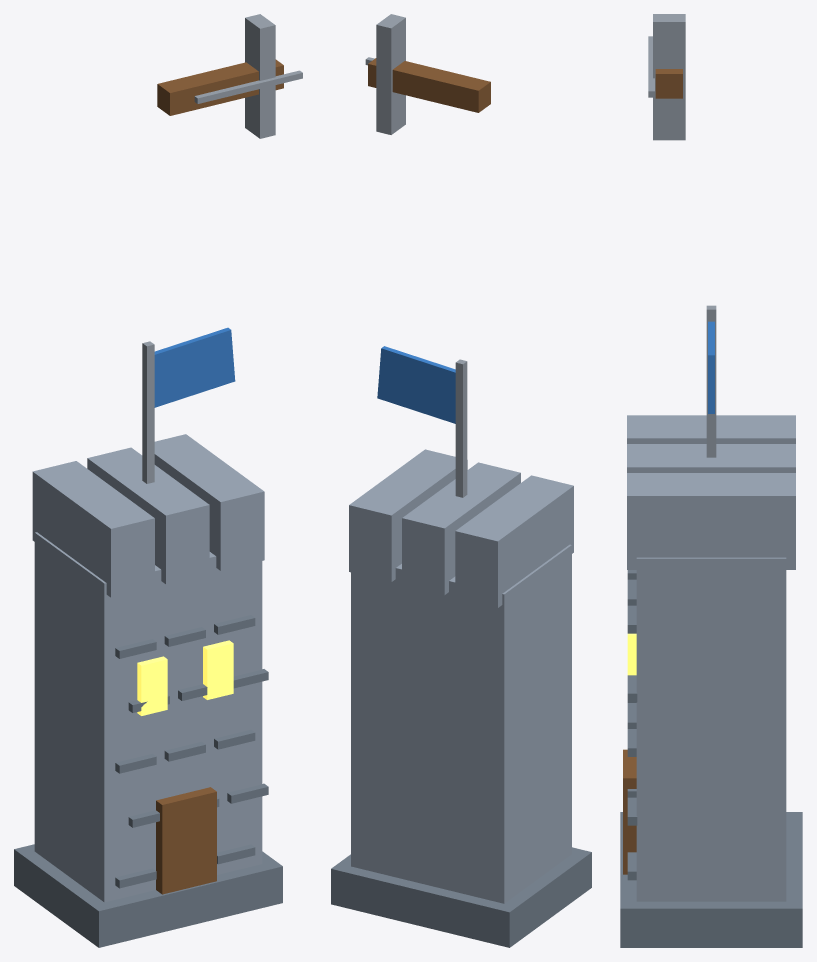
Rendered from tower.glb.
The picture shows the model from 3 angles, left to right: view 1: azimuth 30°, elevation 25°; view 2: azimuth 150°, elevation 25°; view 3: azimuth 270°, elevation 25°; orthographic projection. The views are drawn at different scales.
Visible parts, largest first — view 1: TowerBody, Foundation, Battlement_-0.5, Battlement_0.5, Battlement_0, Door, Flag, CrossbowStock, CrossbowBow, Pole, Window_0.3, Window_-0.3 (+1 smaller); view 2: TowerBody, Foundation, Battlement_-0.5, Battlement_0.5, Battlement_0, Flag, CrossbowStock, CrossbowBow, Pole; view 3: TowerBody, Battlement_0.5, Foundation, Battlement_0, Battlement_-0.5, CrossbowBow, Door, Pole, CrossbowStock, Flag, Window_0.3.
Part boxes in pixels (box(x1,y1,x2,y2)): TowerBody: box(34, 532, 262, 902); Foundation: box(14, 844, 282, 947); Battlement_-0.5: box(32, 461, 154, 597); Battlement_0.5: box(154, 434, 264, 570); Battlement_0: box(87, 447, 209, 584); Door: box(156, 787, 216, 894); Flag: box(154, 327, 235, 407); CrossbowStock: box(157, 59, 283, 115); CrossbowBow: box(245, 14, 275, 138); Pole: box(142, 341, 154, 483); Window_0.3: box(203, 640, 233, 699); Window_-0.3: box(137, 656, 167, 715); TowerBody: box(351, 544, 571, 903); Foundation: box(331, 847, 591, 947); Battlement_-0.5: box(455, 475, 573, 607); Battlement_0.5: box(349, 449, 467, 582); Battlement_0: box(402, 462, 520, 595); Flag: box(377, 346, 455, 423); CrossbowStock: box(368, 58, 490, 112); CrossbowBow: box(376, 14, 405, 134); Pole: box(455, 359, 467, 497); TowerBody: box(636, 557, 786, 901); Battlement_0.5: box(627, 473, 795, 569); Foundation: box(620, 812, 802, 947); Battlement_0: box(627, 444, 795, 472); Battlement_-0.5: box(627, 415, 795, 443); CrossbowBow: box(653, 14, 685, 140); Door: box(623, 749, 636, 874); Pole: box(706, 305, 716, 457); CrossbowStock: box(655, 69, 682, 98); Flag: box(708, 321, 714, 413); Window_0.3: box(627, 633, 636, 675).
Size of the model in its own units: 1.98 by 7.54 by 1.34.
